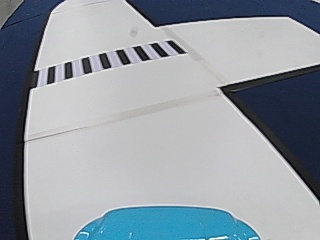CrossWalk: (40, 40, 181, 84)
